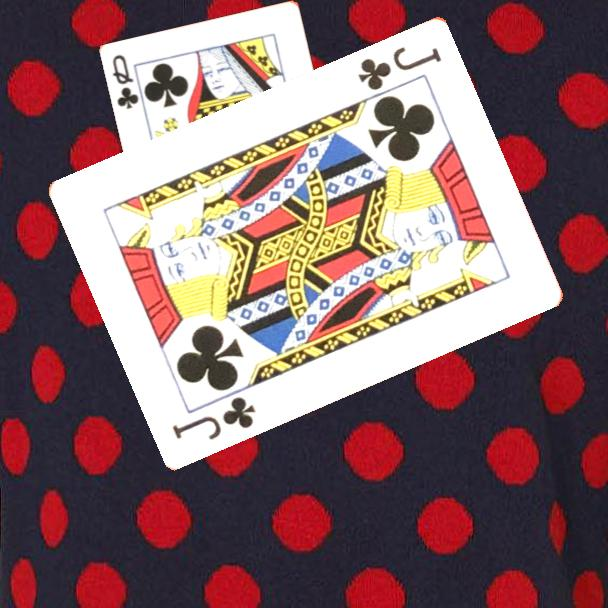c11: (354, 42, 445, 93), (169, 392, 259, 443)
c12: (109, 51, 142, 112)
